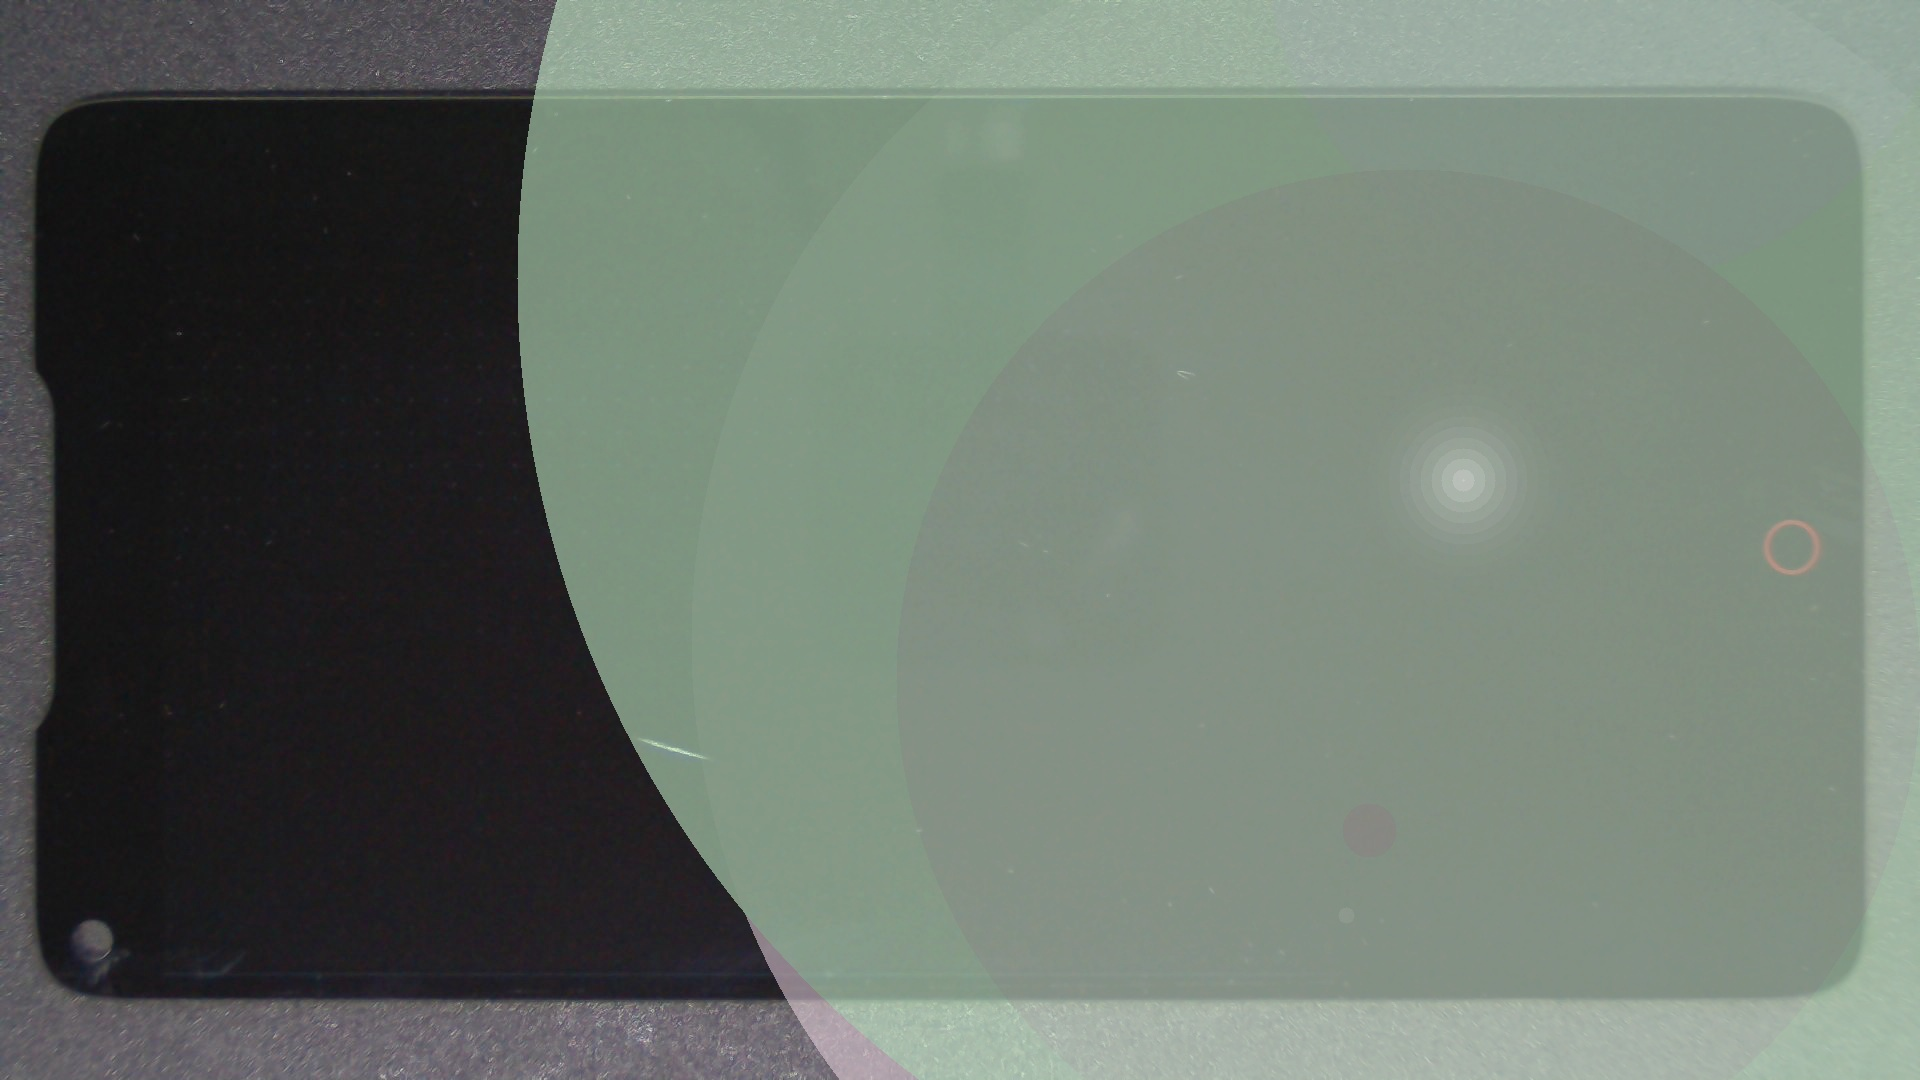oil: (319, 367, 953, 1080)
